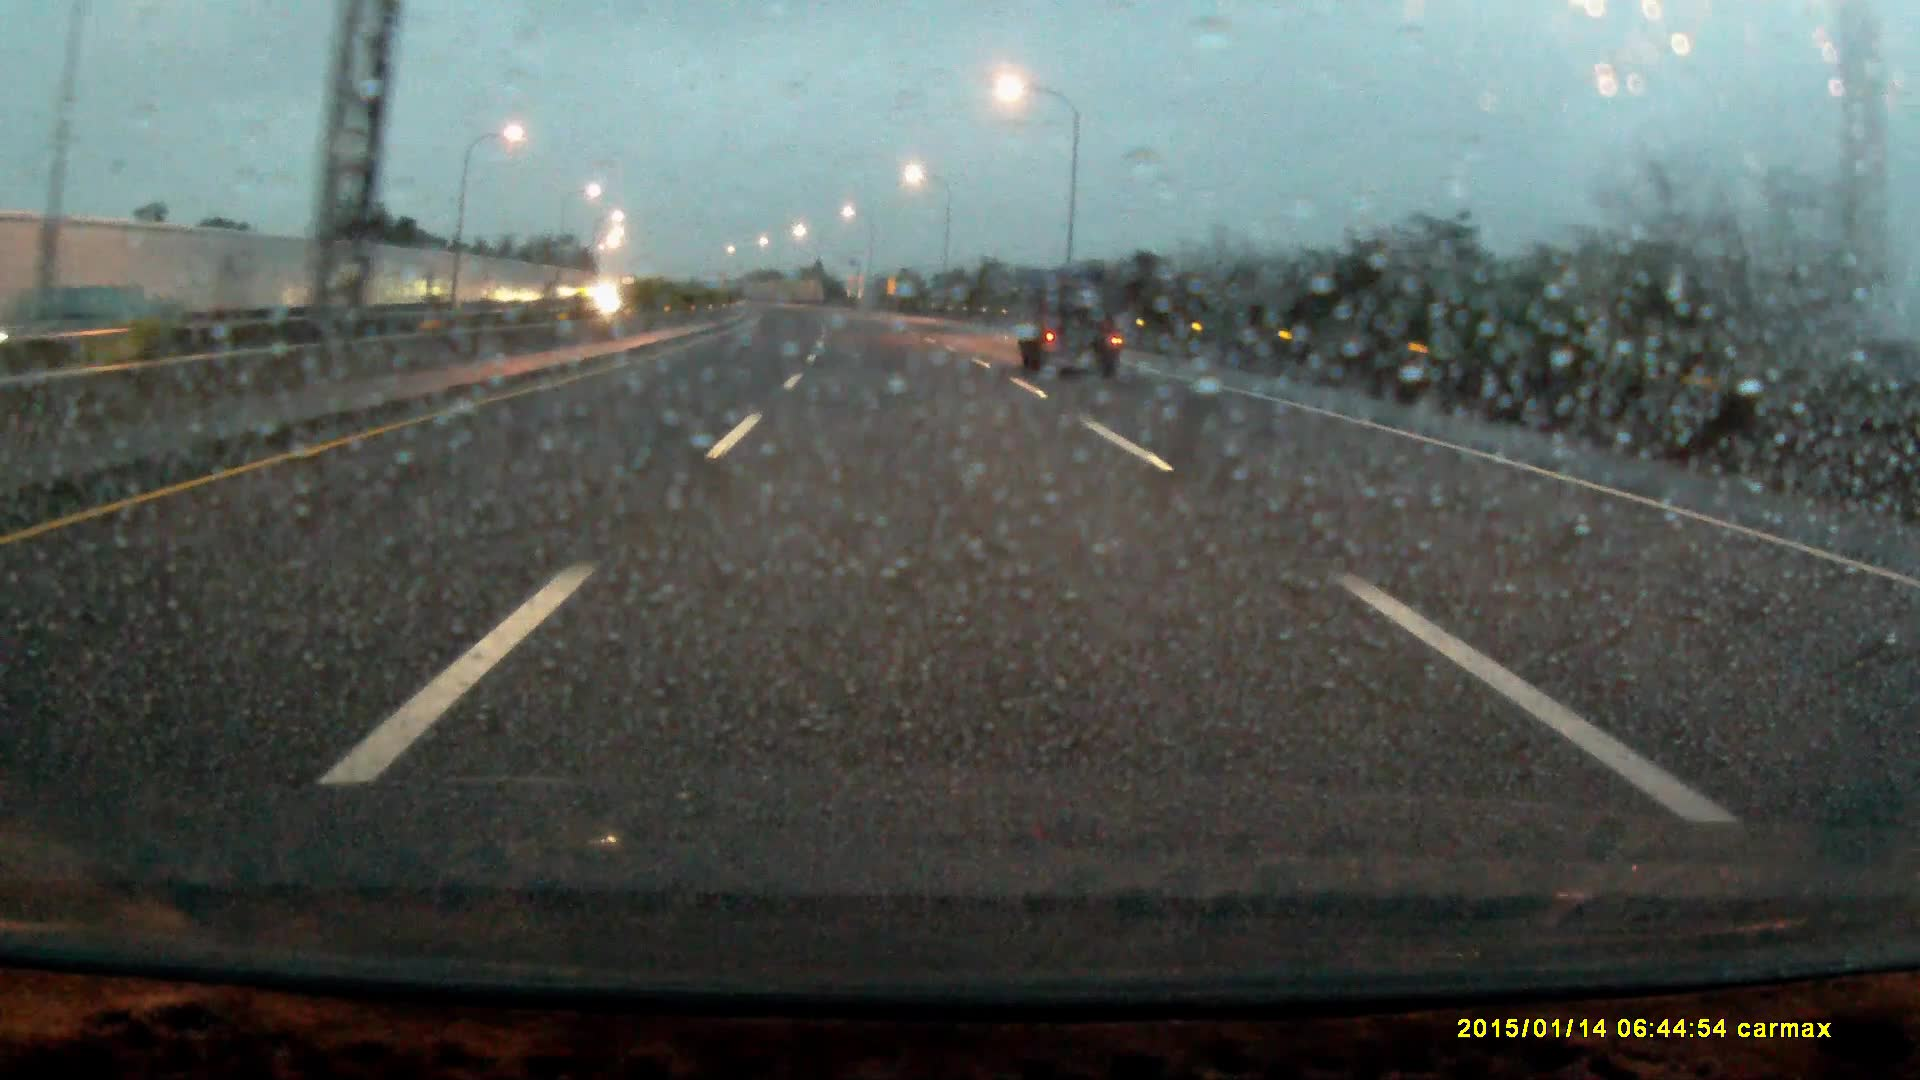vehicle: (1018, 274, 1124, 377), (562, 280, 632, 318)
